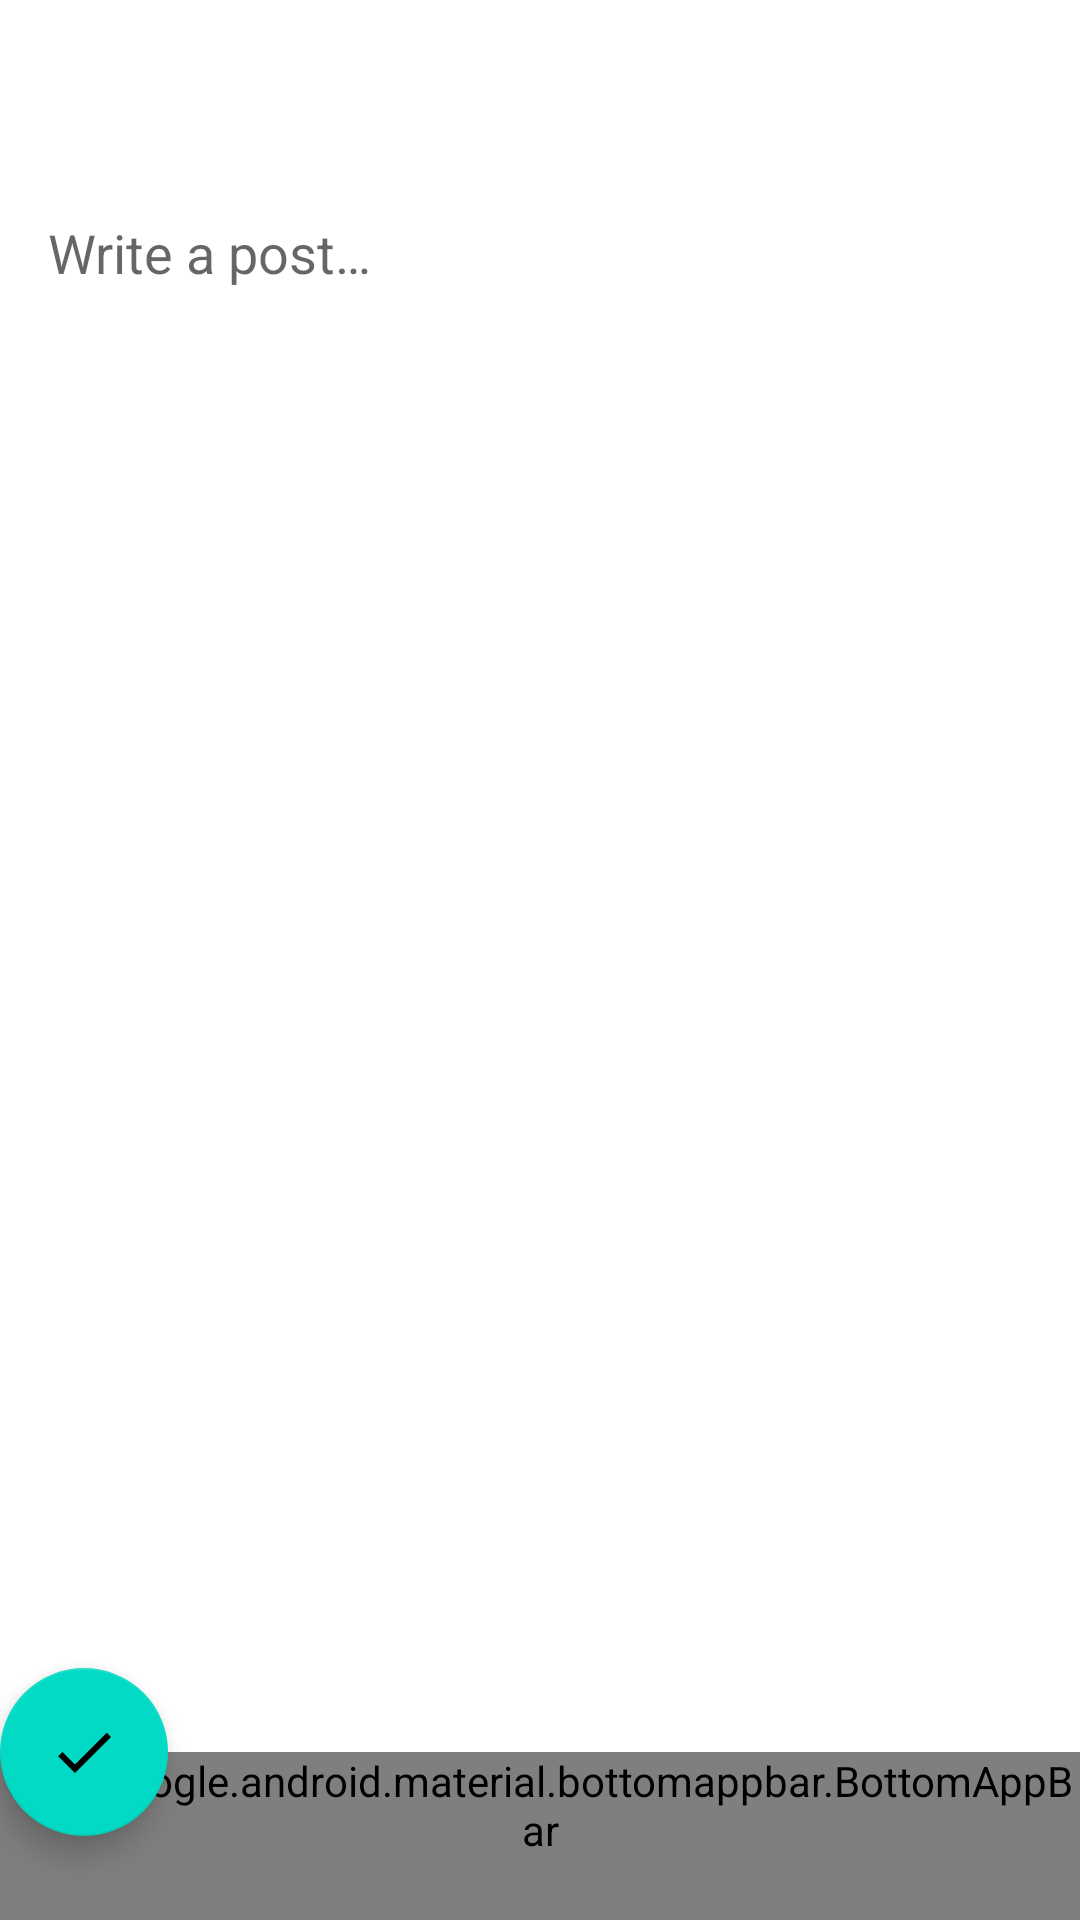

Point at icon controls on the screen. Image size 1080w x 1920h, points as (x=x, y=y).
Save: (x=84, y=1752)
